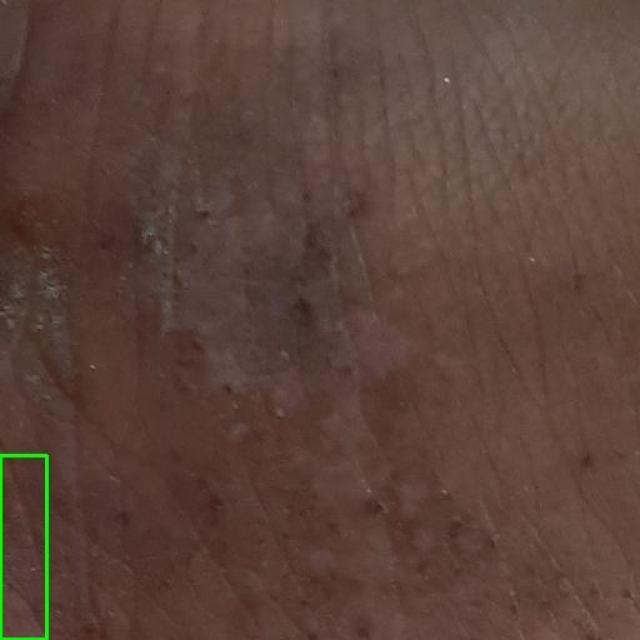Eczema: (0, 455, 46, 639)
